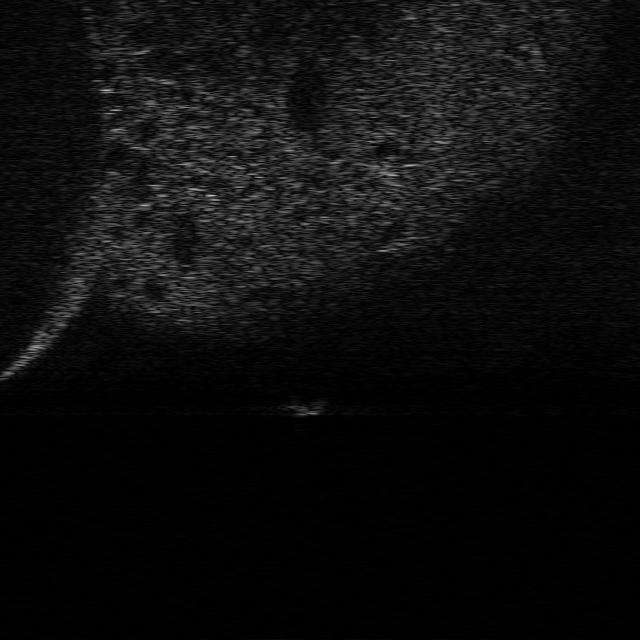cube: (284, 394, 328, 416)
